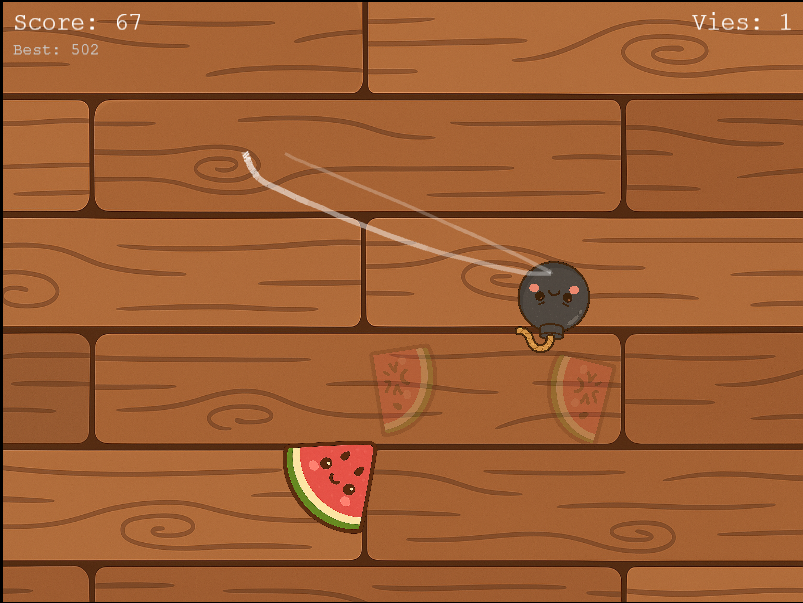bomb: (512, 252, 592, 365)
fruit: (282, 437, 382, 535)
